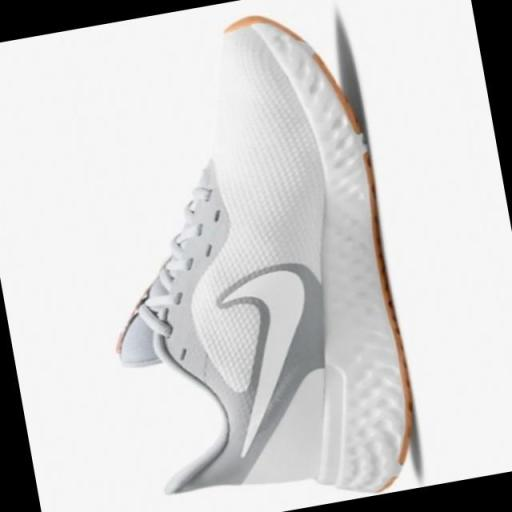Nike: (202, 252, 337, 466)
